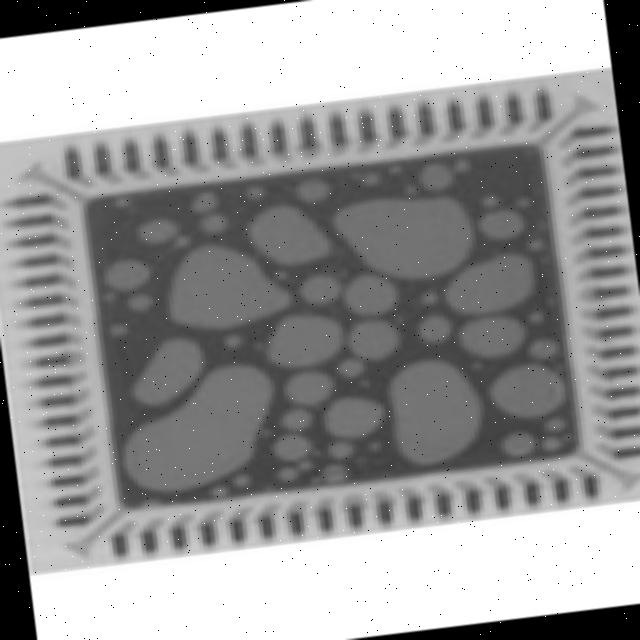chip: (0, 67, 640, 570)
void: (125, 367, 268, 490), (334, 197, 472, 278), (169, 244, 287, 328), (391, 360, 480, 465), (445, 254, 532, 313), (247, 205, 328, 263), (134, 338, 202, 403), (490, 364, 562, 418), (267, 314, 339, 365), (459, 317, 523, 357), (325, 397, 381, 437), (344, 274, 395, 314), (348, 322, 396, 359), (287, 374, 331, 406), (105, 258, 148, 290), (481, 209, 523, 238), (301, 276, 338, 303), (138, 218, 176, 243), (274, 435, 308, 461), (420, 162, 452, 189), (417, 316, 449, 342), (502, 432, 532, 456), (299, 178, 328, 201), (191, 191, 217, 212), (201, 214, 225, 232), (339, 358, 361, 376), (128, 295, 151, 310)
